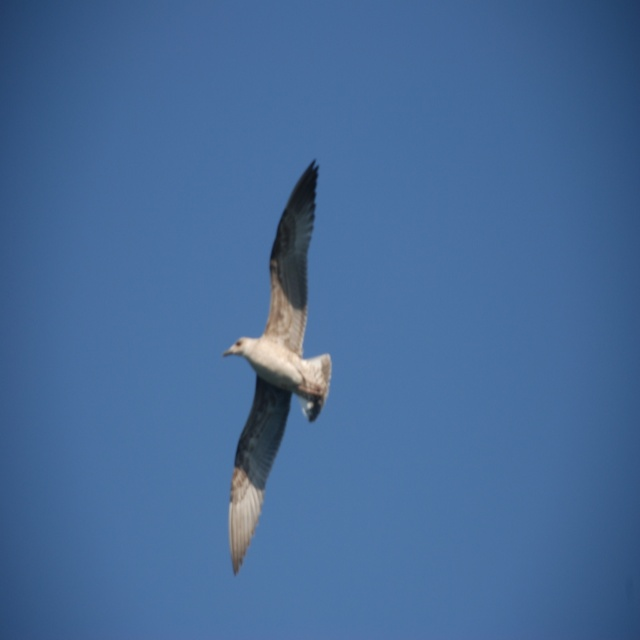Eagle: (222, 157, 332, 580)
